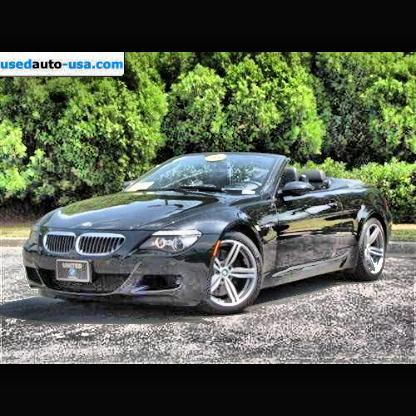BMW M6 Convertible 2010: (26, 154, 396, 315)
